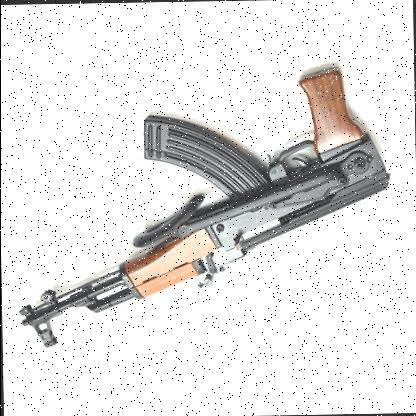rifle: (21, 51, 402, 356)
